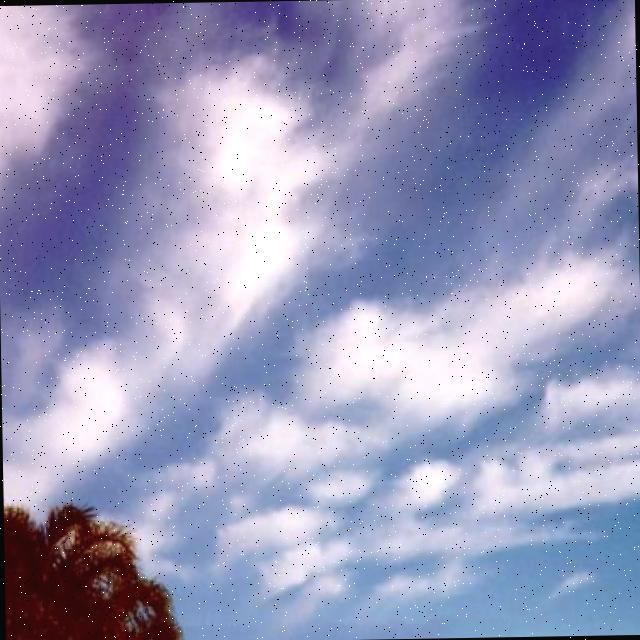Ci: (1, 8, 640, 439)
